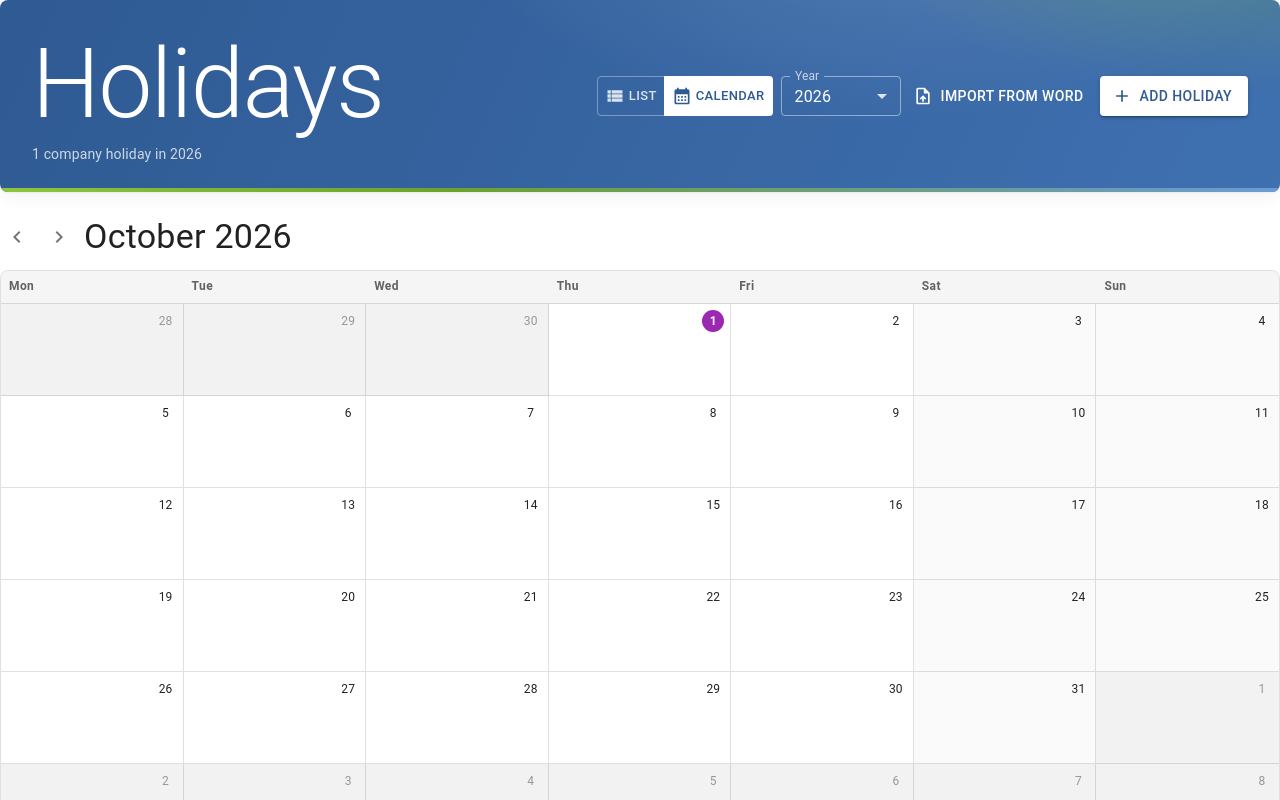
Test: HolidaysPage management controls › gives the policy holder add, import, edit and remove
Step 1. Click the button "List" → (631, 96), box [597,76,665,116]
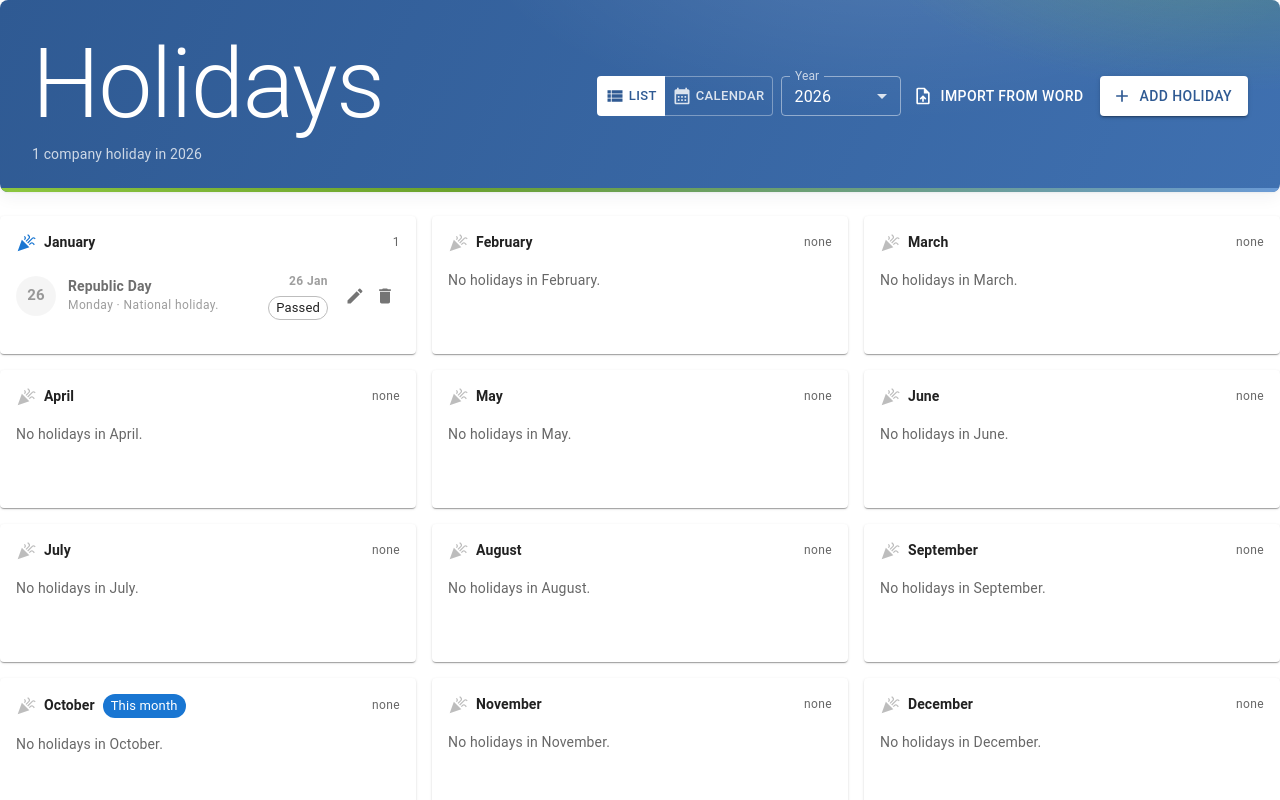
Now the text "Republic Day" is shown, box [68,276,152,296]
Now the button named "edit republic day" is shown, box [340,281,370,311]
Now the button named "remove republic day" is shown, box [370,281,400,311]
